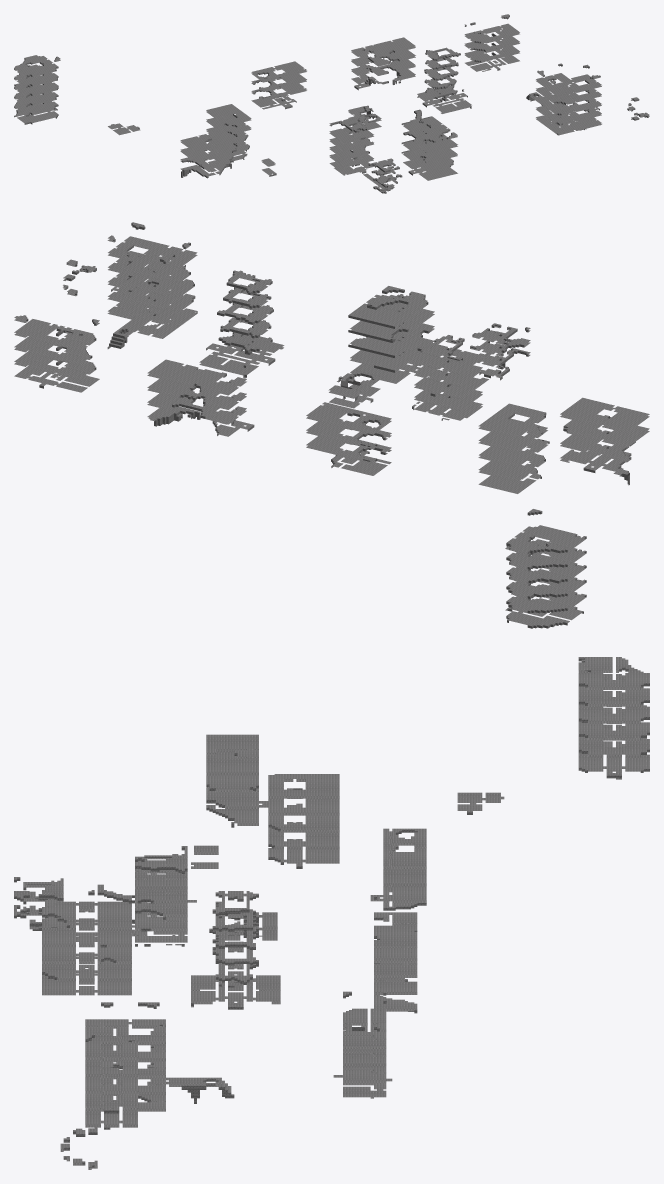
The model's file is Stone_Bricks.fbx.
3 views of the same model, one above another, from view 1: azimuth 30°, elevation 25°; view 2: azimuth 150°, elevation 25°; view 3: azimuth 270°, elevation 25° (orthographic). The views are drawn at different scales.
Parts seen in each view (by area): view 1: Stone_Bricks; view 2: Stone_Bricks; view 3: Stone_Bricks.
Boxes of the visible parts, box(x1,y1,x2,y2) form: Stone_Bricks: box(14, 14, 649, 193); Stone_Bricks: box(14, 222, 649, 628); Stone_Bricks: box(14, 657, 649, 1169).
Size of the model in its own units: 31700 by 4800 by 20500.
1 material, 1 textured.
